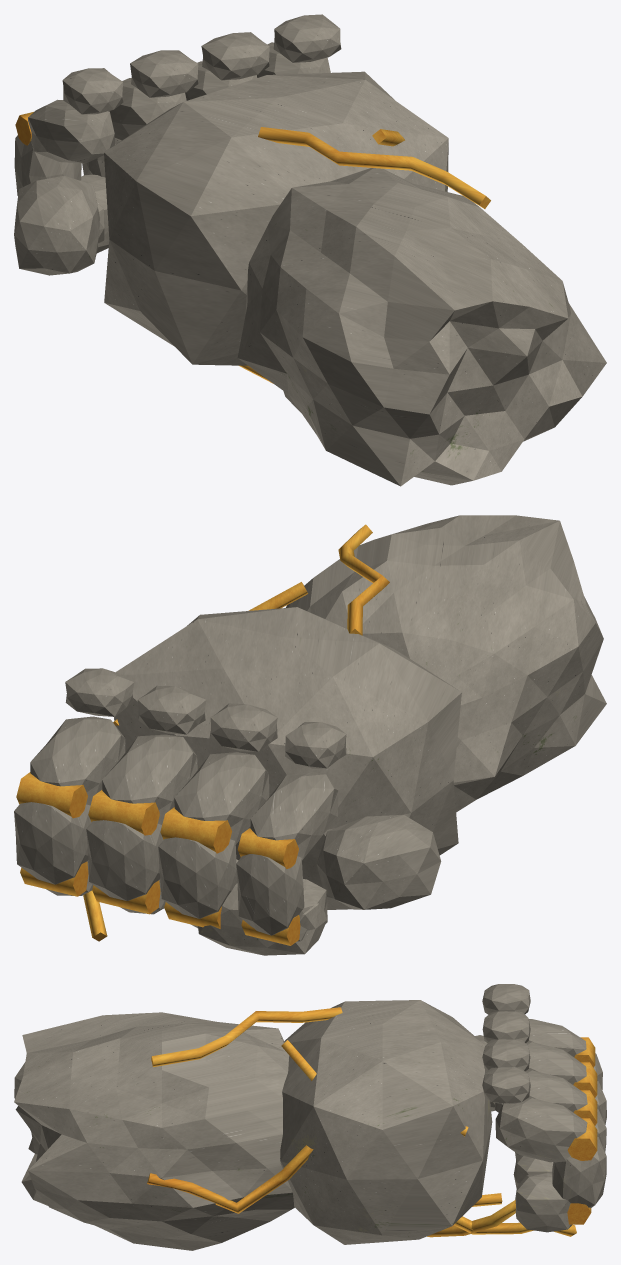
The model's file is HO_Hero_StoneFist_Left.fbx.
3 renders of one model, top to bottom at view 1: azimuth 30°, elevation 25°; view 2: azimuth 150°, elevation 25°; view 3: azimuth 270°, elevation 25°, orthographic. The views are drawn at different scales.
Parts seen in each view (by area): view 1: HO_Hero_StoneFist_Left, HO_Hero_StoneFist_Left_Glow; view 2: HO_Hero_StoneFist_Left, HO_Hero_StoneFist_Left_Glow; view 3: HO_Hero_StoneFist_Left, HO_Hero_StoneFist_Left_Glow.
Part boxes in pixels (box(x1,y1,x2,y2)): HO_Hero_StoneFist_Left: box(14, 14, 606, 486); HO_Hero_StoneFist_Left_Glow: box(15, 112, 490, 383); HO_Hero_StoneFist_Left: box(14, 515, 606, 955); HO_Hero_StoneFist_Left_Glow: box(16, 524, 389, 945); HO_Hero_StoneFist_Left: box(14, 984, 606, 1250); HO_Hero_StoneFist_Left_Glow: box(147, 1007, 597, 1237).
Bounding box in the file's own units: 2.35 × 1.77 × 4.3.
